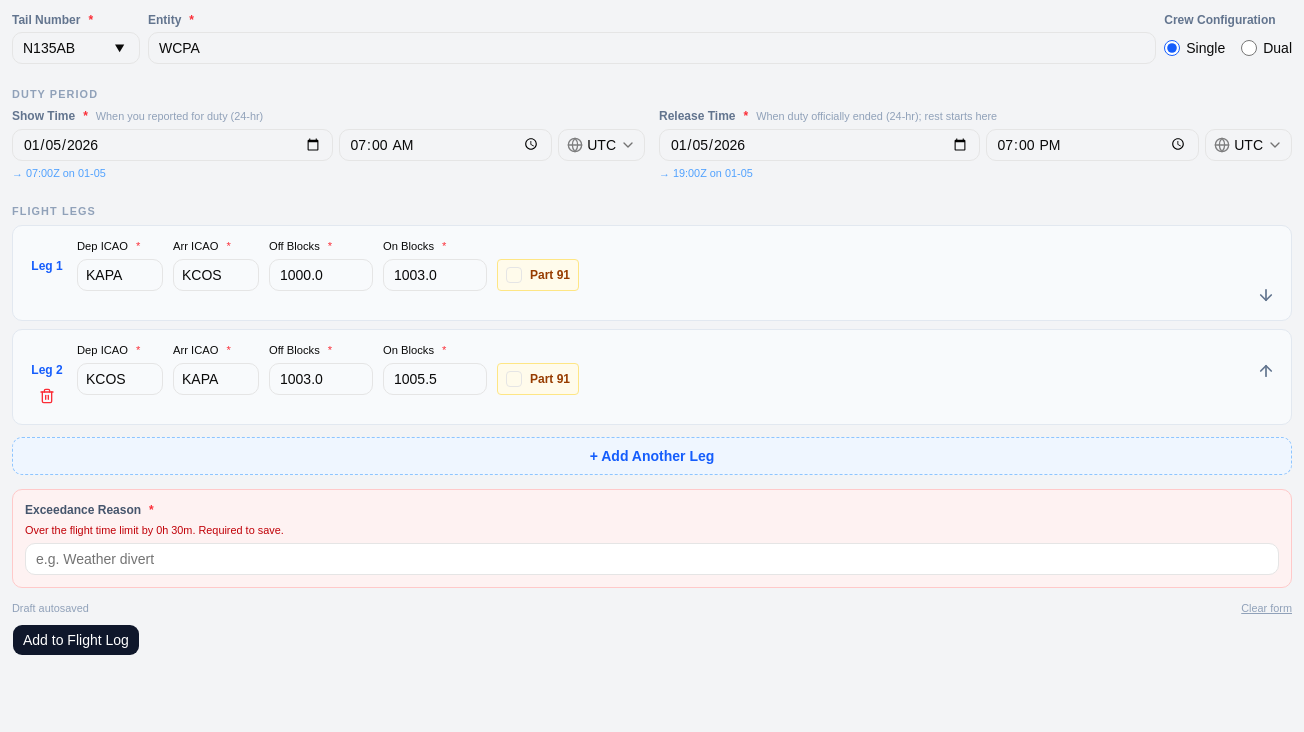
Test case: Exceedance Reason on the duty form › the exceedance counts earlier flying in the 24-hour window, too
Expected: the text "Over the flight time limit by 0h 30m. Required to save." is shown, [25, 524, 284, 536]
Click the button "Add to Flight Log".
click(76, 640)  # box [12, 624, 140, 656]
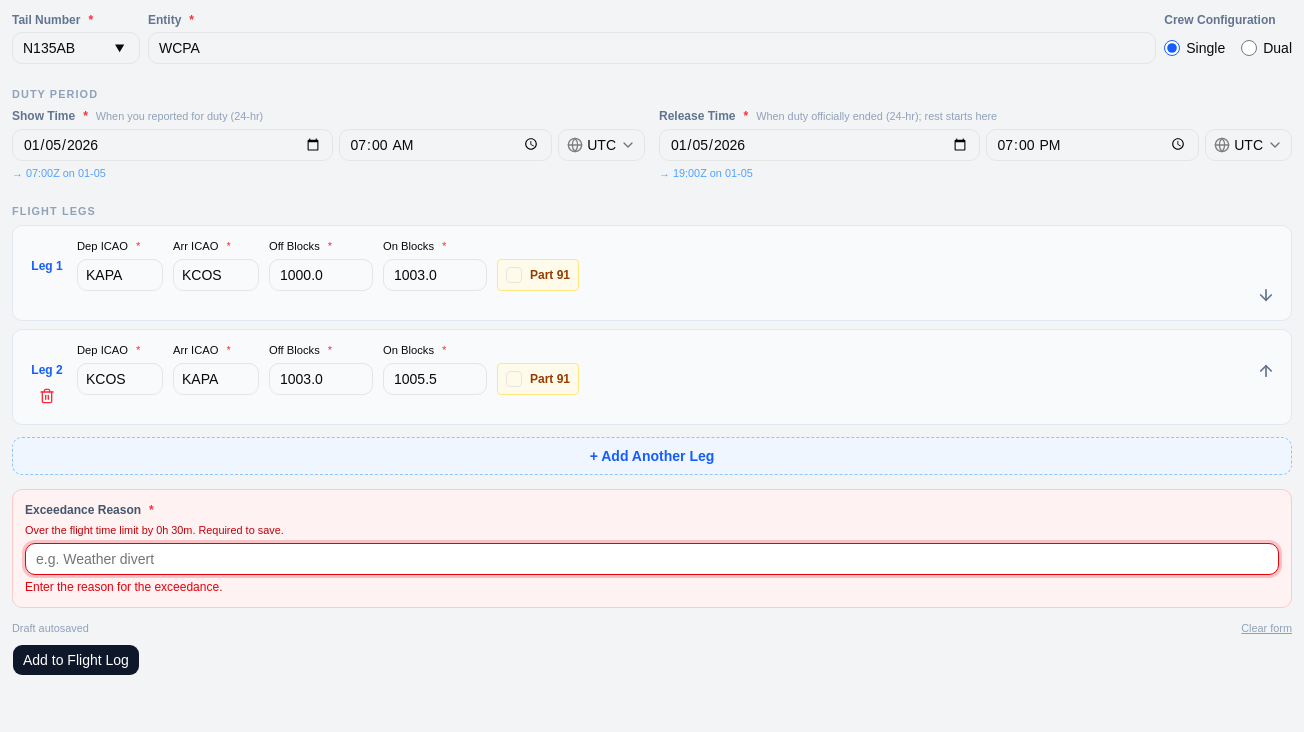
Expected: the text "Enter the reason for the exceedance." is shown, [25, 580, 222, 594]
